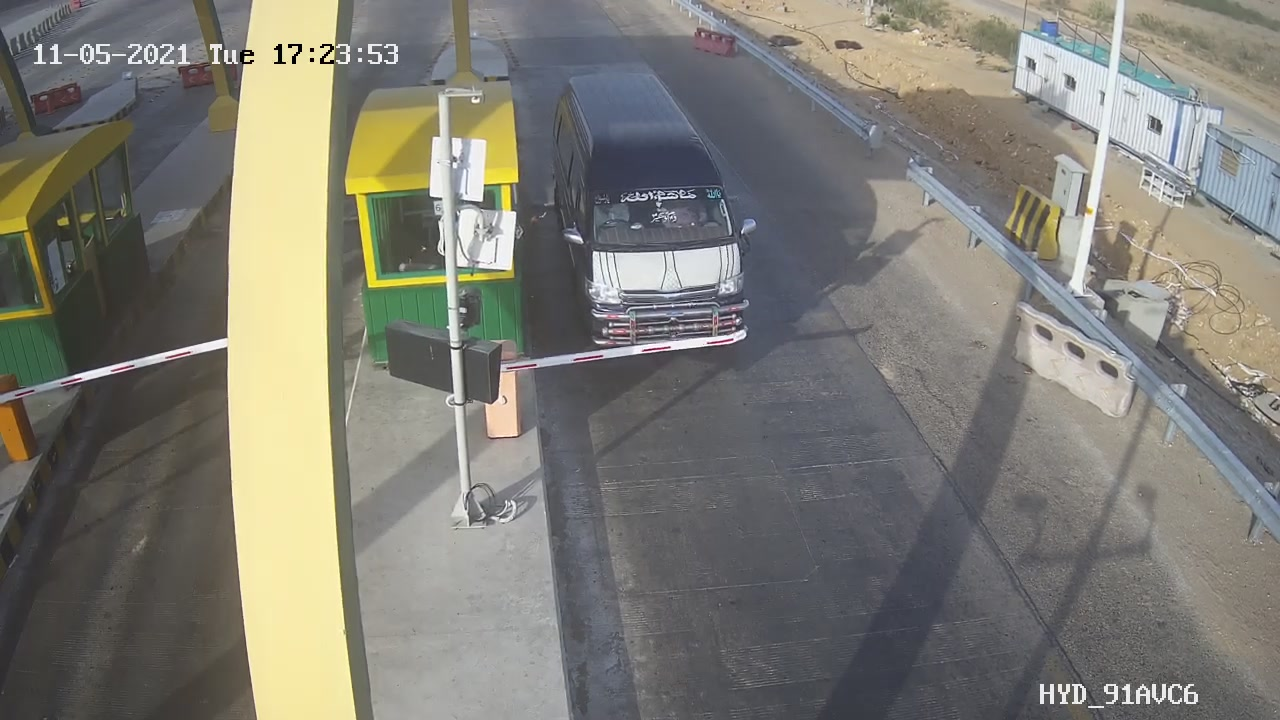F2: (538, 56, 769, 373)
